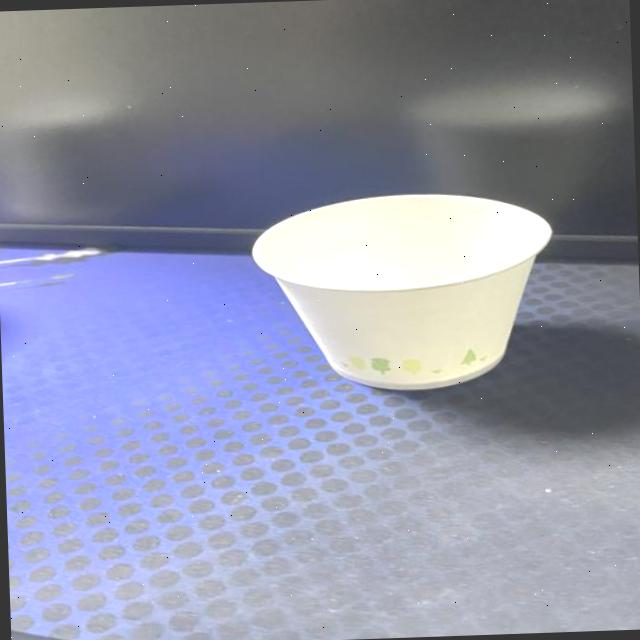trash: (247, 188, 558, 398)
